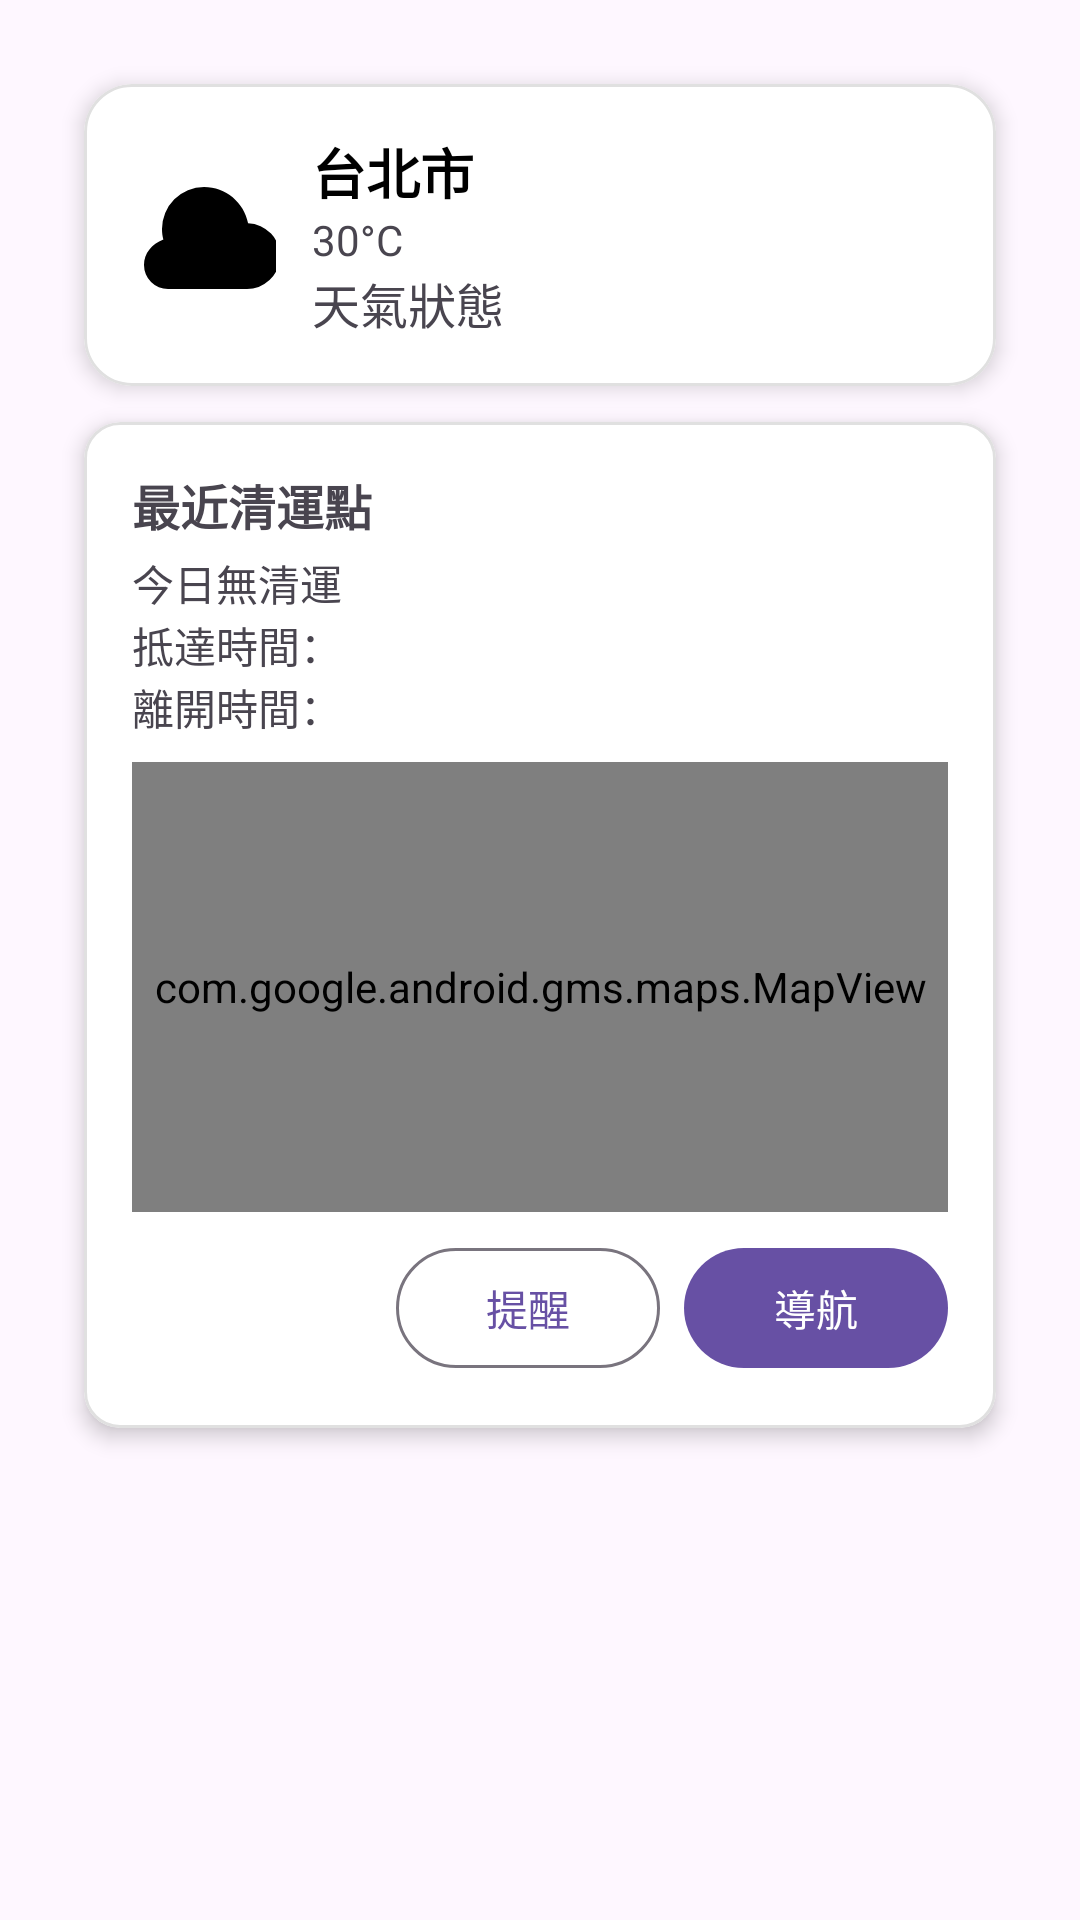

Locate icon controls on the screen. Image size 1080x1920, boxes as (x1, y1, x2, y2).
weather: (144, 187, 276, 289)
